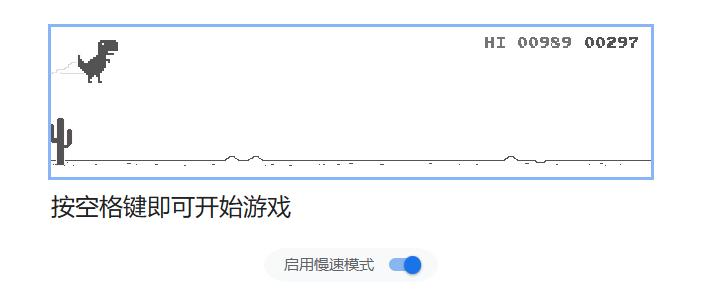cactus: (50, 117, 74, 168)
dino: (76, 38, 119, 84)
